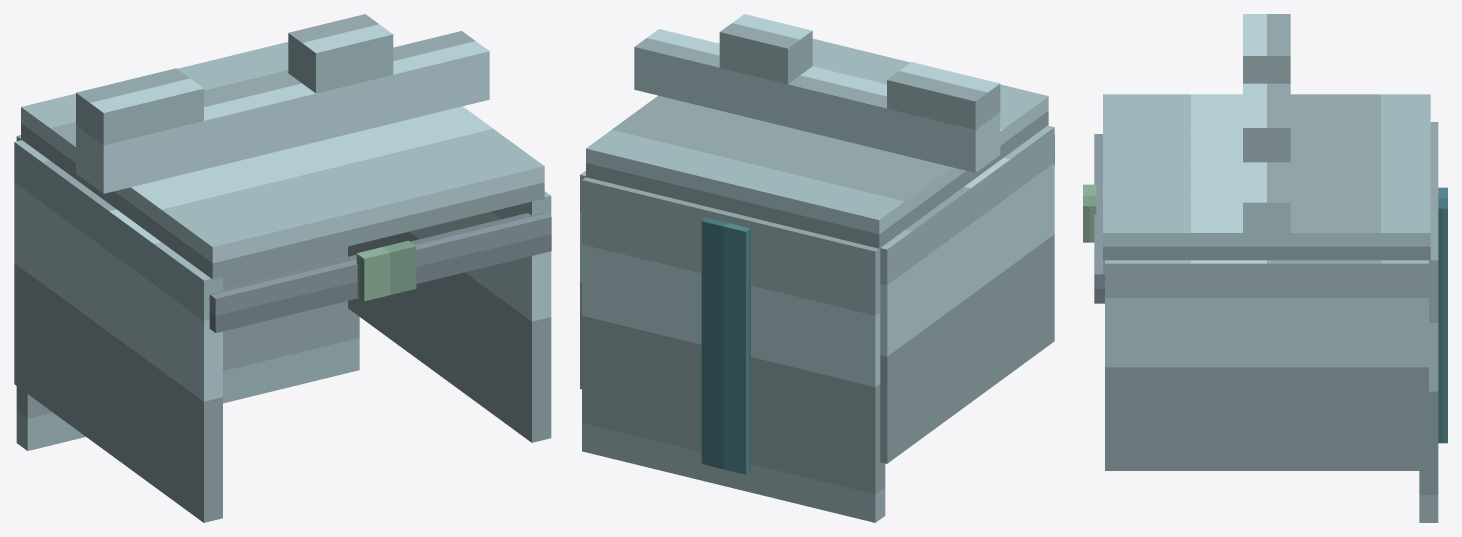
File: zhuji_baiqing_lingyun_helmet.obj
3 renders of one model, left to right at view 1: azimuth 30°, elevation 25°; view 2: azimuth 150°, elevation 25°; view 3: azimuth 270°, elevation 25°, orthographic. The views are drawn at different scales.
Parts seen in each view (by area): view 1: cap_side_-1, cap_top, cloud_crown, cap_side_1, cap_back, cap_brow, cloud_brow_jade; view 2: cap_back, cap_side_-1, cap_top, cloud_crown, cloud_cap_back; view 3: cap_side_1, cap_top, cloud_crown, cap_back, cloud_cap_back, cap_brow, cloud_brow_jade.
Part boxes in pixels (left/top/right/bottom): cap_side_-1: left=14, top=140, right=222, bottom=522; cap_top: left=21, top=42, right=544, bottom=279; cloud_crown: left=76, top=14, right=489, bottom=193; cap_side_1: left=348, top=191, right=551, bottom=442; cap_back: left=16, top=135, right=359, bottom=450; cap_brow: left=209, top=212, right=551, bottom=332; cloud_brow_jade: left=356, top=240, right=416, bottom=301; cap_back: left=582, top=177, right=885, bottom=522; cap_side_-1: left=880, top=125, right=1054, bottom=463; cap_top: left=586, top=38, right=1048, bottom=248; cloud_crown: left=634, top=14, right=1000, bottom=172; cloud_cap_back: left=701, top=217, right=750, bottom=474; cap_side_1: left=1105, top=260, right=1428, bottom=470; cap_top: left=1103, top=94, right=1430, bottom=260; cloud_crown: left=1243, top=14, right=1290, bottom=243; cap_back: left=1419, top=122, right=1438, bottom=522; cloud_cap_back: left=1438, top=187, right=1447, bottom=443; cap_brow: left=1094, top=134, right=1104, bottom=303; cloud_brow_jade: left=1083, top=184, right=1096, bottom=242.
Bounding box in the file's own units: 0.625 × 0.6625 × 0.5984.
